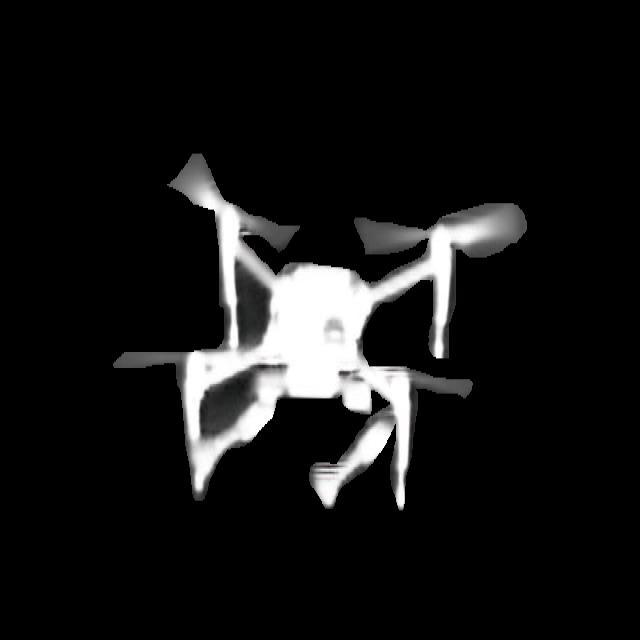drone: (111, 148, 527, 513)
